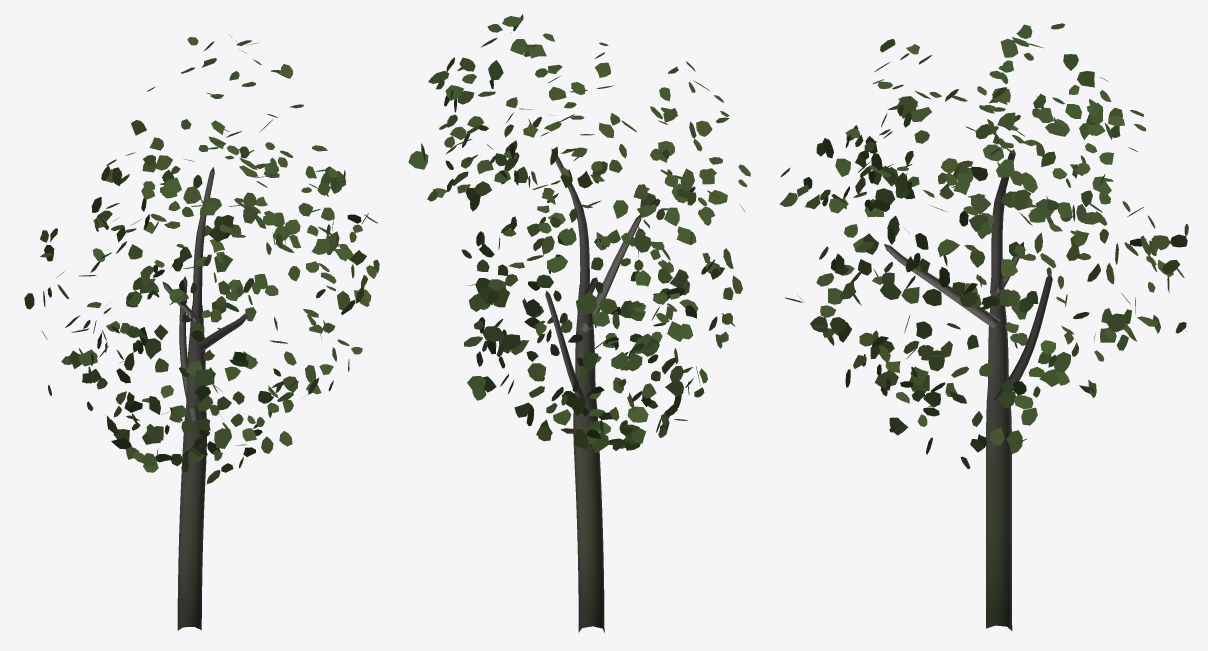
The model's file is SM_TreeFar_rowan_1.glb.
3 renders of one model, left to right at view 1: azimuth 30°, elevation 25°; view 2: azimuth 150°, elevation 25°; view 3: azimuth 270°, elevation 25°, orthographic. The views are drawn at different scales.
Visible parts, largest first — view 1: SM_TreeFar_rowan_1; view 2: SM_TreeFar_rowan_1; view 3: SM_TreeFar_rowan_1.
Part boxes in pixels (x1,y1,x2,y2): SM_TreeFar_rowan_1: (24, 35, 379, 630); SM_TreeFar_rowan_1: (408, 14, 750, 632); SM_TreeFar_rowan_1: (779, 23, 1188, 630).
Size of the model in its own units: 4.11 by 8.78 by 5.2.
